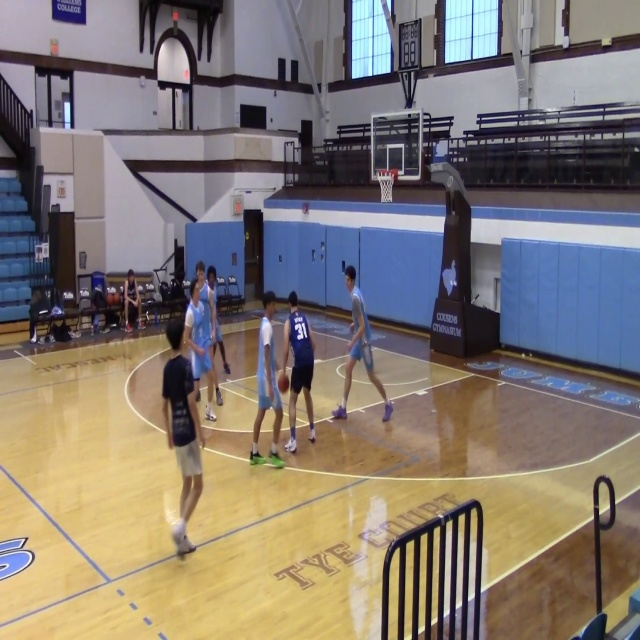Basketball: (277, 374, 290, 393), (106, 293, 120, 306)
